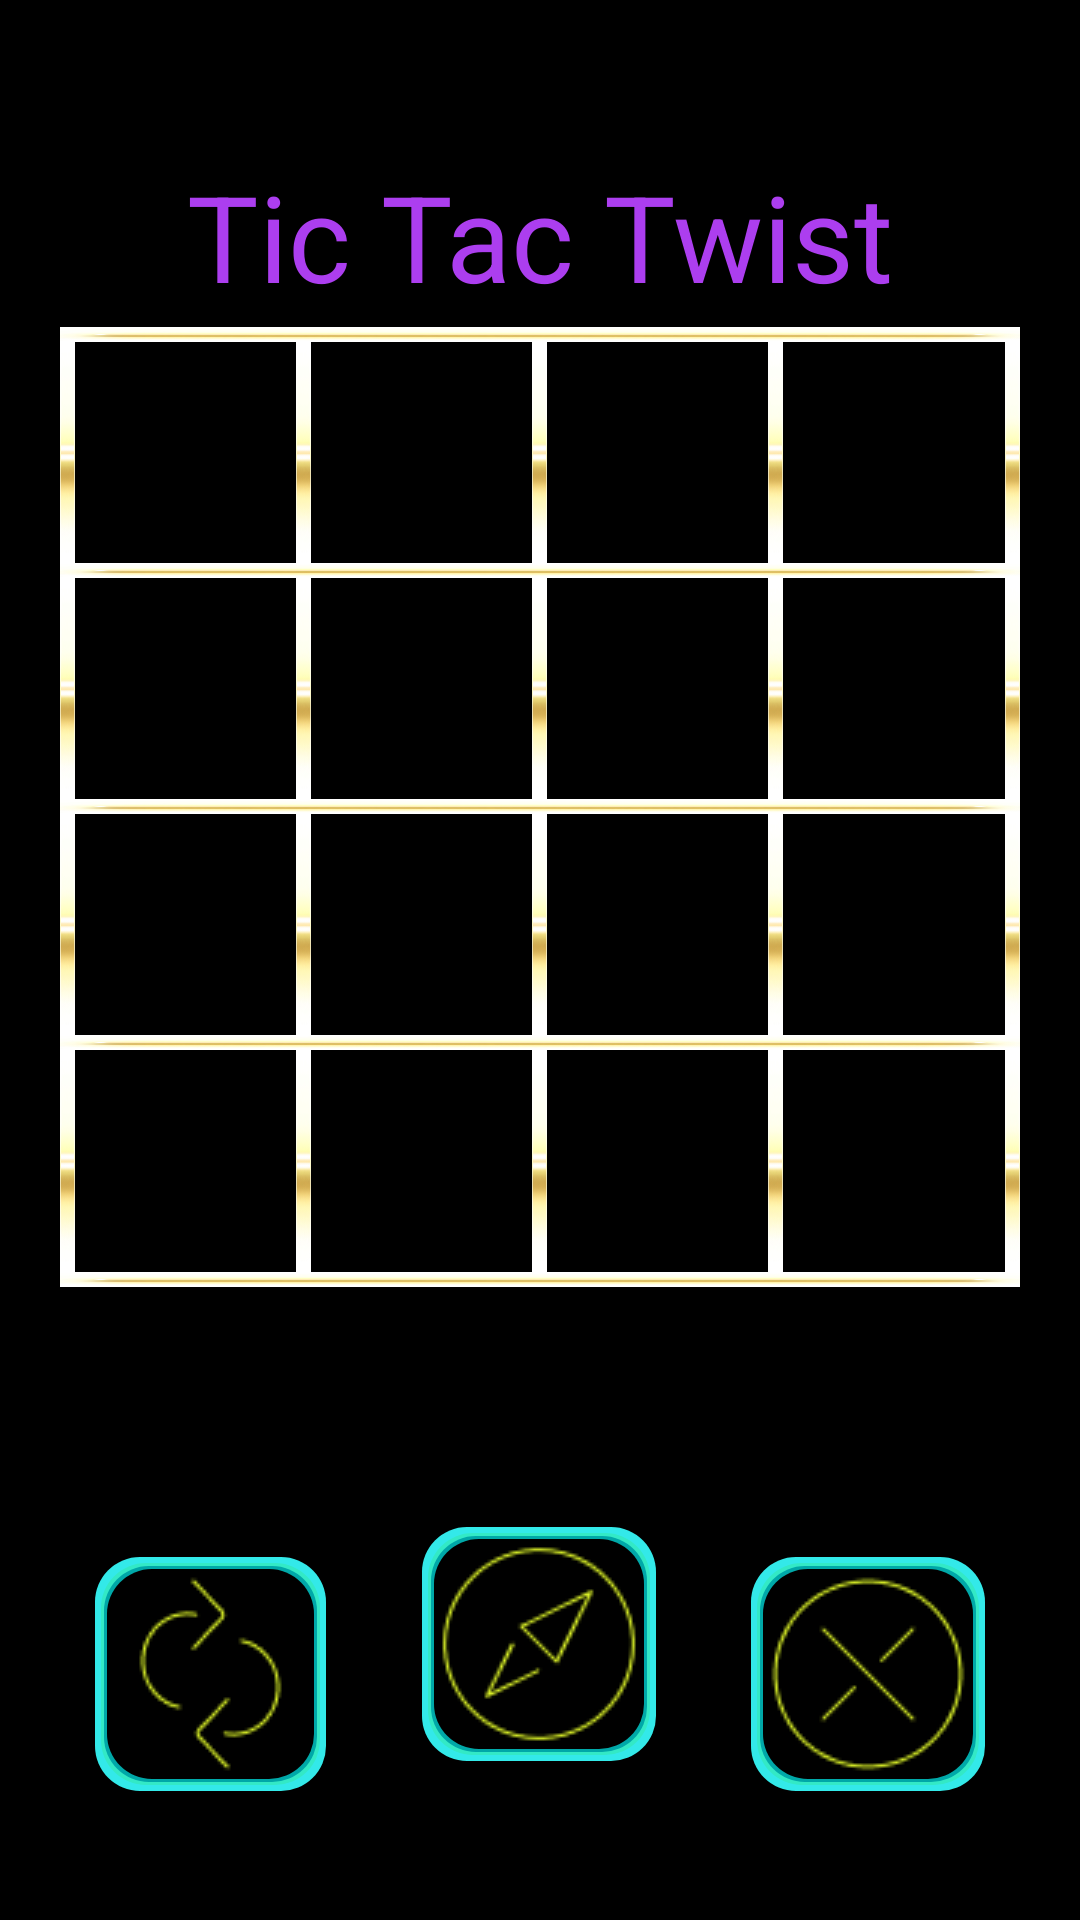

Point at icon controls on the screen. Image size 1080px×1920px, points as (x,y).
compass: (539,1644)
cross: (868,1674)
refresh: (210,1674)
